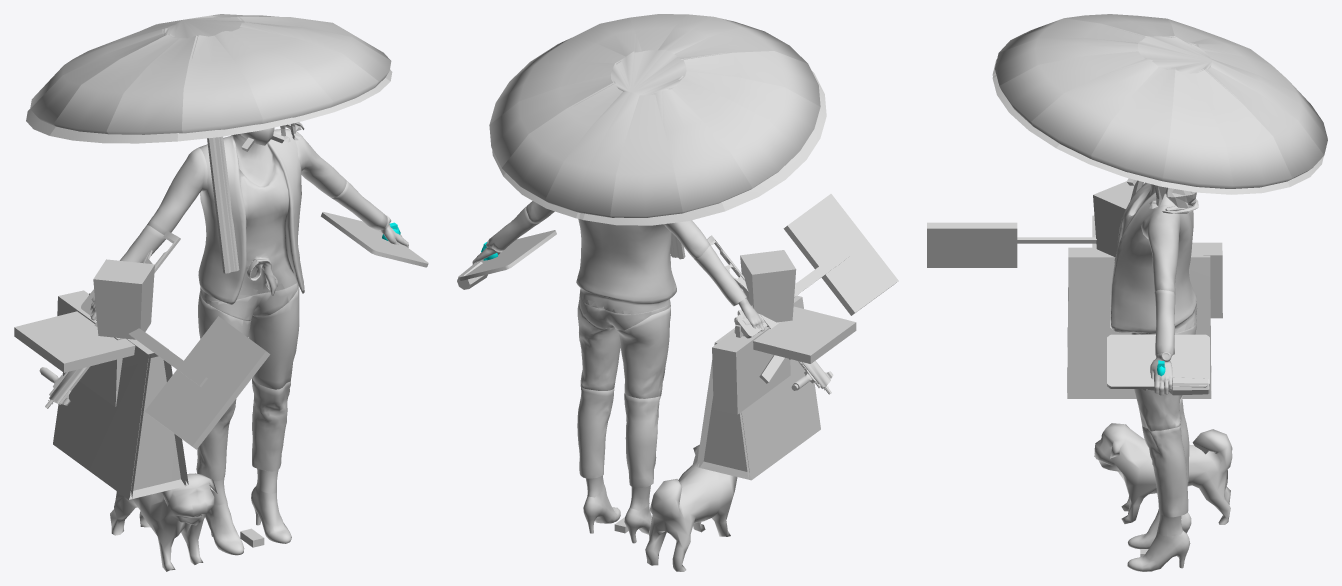
File: civilian1_western.dae
The picture shows the model from 3 angles, left to right: view 1: azimuth 30°, elevation 25°; view 2: azimuth 150°, elevation 25°; view 3: azimuth 270°, elevation 25°; orthographic projection. The views are drawn at different scales.
Parts seen in each view (by area): view 1: Umbrella03, UpBody, Handbag06, Umbrella004, ProtestSign, trolley, Handbag07, Umbrella002, LowLeg2, UpLeg2, Handbag02, UpArm1 (+16 smaller); view 2: Umbrella03, Umbrella004, UpBody, ProtestSign, Handbag06, trolley, Handbag, UpLeg1, Handbag07, LowLeg1, Umbrella002, LowLeg2 (+15 smaller); view 3: Umbrella004, Umbrella03, Handbag05, UpBody, trolley, ProtestSign, ShoppingBag, LowLeg2, Umbrella001, UpArm2, Handbag01, UpLeg2 (+7 smaller).
Part boxes in pixels (x1,y1,x2,y2): Umbrella03: (30, 16, 299, 271); UpBody: (198, 129, 304, 304); Handbag06: (53, 339, 185, 499); Umbrella004: (159, 14, 391, 270); ProtestSign: (129, 316, 270, 449); trolley: (110, 473, 217, 571); Handbag07: (14, 311, 135, 372); Umbrella002: (26, 109, 297, 273); LowLeg2: (252, 378, 290, 493); UpLeg2: (248, 286, 299, 389); Handbag02: (93, 259, 141, 339); UpArm1: (146, 148, 208, 234); Umbrella03: (572, 17, 820, 257); Umbrella004: (489, 14, 725, 256); UpBody: (576, 218, 676, 314); ProtestSign: (783, 194, 898, 315); Handbag06: (699, 297, 820, 479); trolley: (645, 444, 737, 571); Handbag: (712, 325, 790, 414); UpLeg1: (616, 306, 670, 398); Handbag07: (753, 306, 856, 363); LowLeg1: (624, 393, 660, 510); Umbrella002: (579, 71, 826, 259); LowLeg2: (577, 385, 614, 497); Umbrella004: (995, 26, 1327, 196); Umbrella03: (995, 14, 1327, 262); Handbag05: (1067, 255, 1211, 398); UpBody: (1110, 182, 1197, 334); trolley: (1094, 423, 1232, 524); ProtestSign: (927, 222, 1096, 267); ShoppingBag: (1107, 334, 1209, 388); LowLeg2: (1142, 425, 1188, 536); Umbrella001: (992, 75, 1323, 194); UpArm2: (1141, 205, 1180, 294); Handbag01: (1093, 181, 1133, 256); UpLeg2: (1134, 389, 1181, 431).
Size of the model in its own units: 994 by 1314 by 961.
